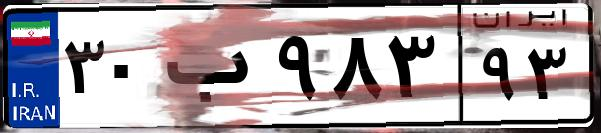0: (110, 28, 158, 98)
3: (385, 28, 445, 110), (57, 26, 110, 100), (525, 38, 570, 115)
8: (330, 28, 385, 110)
9: (270, 28, 330, 110), (475, 38, 525, 113)
ب: (158, 20, 270, 120)
